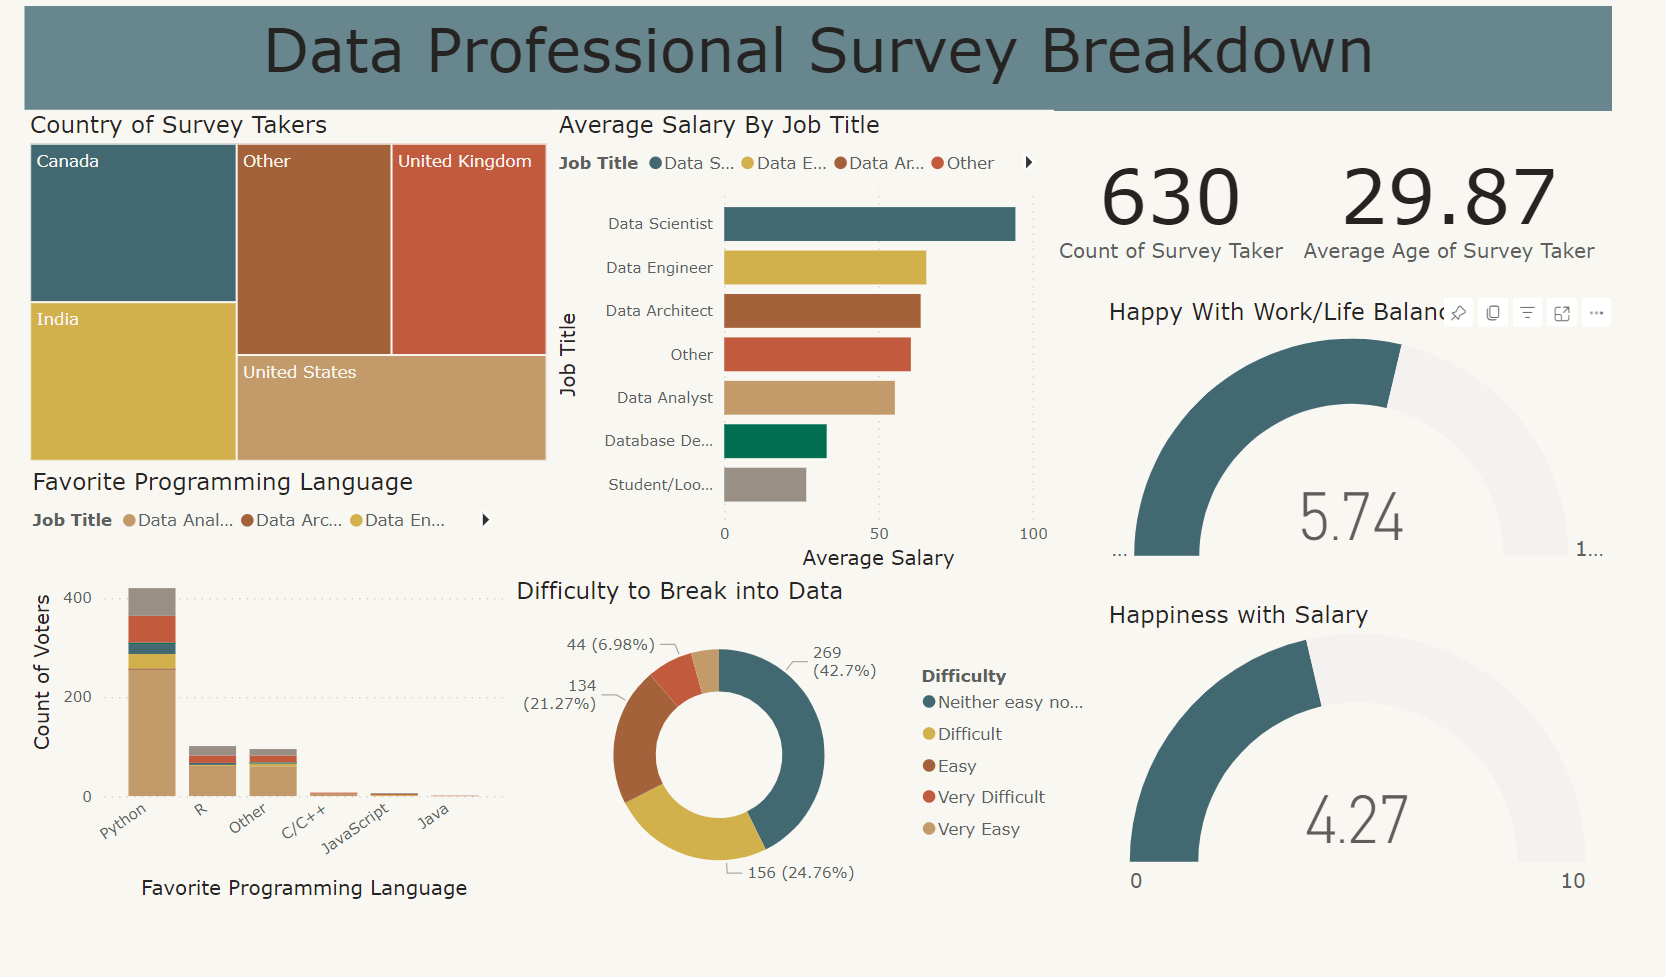

This screenshot's page, from the dashboard's own definition file:
{"tool":"powerbi","page":{"name":"Page 1","canvas":[1280,720],"ordinal":0},"visuals":[{"type":"textbox","box":[9.6,0,1270.7,83.7],"z":0},{"type":"card","fields":{"Values":["Avg(Data Professional Survey.Q10 - Current Age)"]},"box":[1017.7,83.5,262.7,149.6],"z":1000},{"type":"card","fields":{"Values":["CountNonNull(Data Professional Survey.Unique ID)"]},"box":[821.1,83.5,210.5,149.6],"z":2000},{"type":"barChart","title":"Average Salary By Job Title","fields":{"Y":["Avg(Data Professional Survey.Average Salary)"],"Category":["Data Professional Survey.Q1 - Which Title Best Fits your Current Role?.1"],"Series":["Data Professional Survey.Q1 - Which Title Best Fits your Current Role?.1"]},"box":[432.1,83.5,401.2,372.9],"z":3000},{"type":"columnChart","title":"Favorite Programming Language","fields":{"Category":["Data Professional Survey.Q5 - Favorite Programming Language.1"],"Y":["CountNonNull(Data Professional Survey.Unique ID)"],"Series":["Data Professional Survey.Q1 - Which Title Best Fits your Current Role?.1"]},"box":[10.8,368.9,387.7,351.4],"z":4000},{"type":"treemap","title":"Country of Survey Takers","fields":{"Group":["Data Professional Survey.Q11 - Which Country do you live in?.1"],"Values":["Count(Data Professional Survey.Q11 - Which Country do you live in?.1)"]},"box":[9.4,83.5,422.7,285.4],"z":5000},{"type":"gauge","title":"Happy With Work/Life Balance","fields":{"Y":["Avg(Data Professional Survey.Q6 - How Happy are you in your Current Position with the following? (Work/Life Balance))"],"MinValue":["Min(Data Professional Survey.Q6 - How Happy are you in your Current Position with the following? (Work/Life Balance))1"],"MaxValue":["Max(Data Professional Survey.Q6 - How Happy are you in your Current Position with the following? (Work/Life Balance))2"]},"box":[872.4,232.9,407.9,223.5],"z":6000},{"type":"gauge","title":"Happiness with Salary","fields":{"Y":["Avg(Data Professional Survey.Q6 - How Happy are you in your Current Position with the following? (Salary))"],"MinValue":["Min(Data Professional Survey.Q6 - How Happy are you in your Current Position with the following? (Salary))"],"MaxValue":["Max(Data Professional Survey.Q6 - How Happy are you in your Current Position with the following? (Salary))1"]},"box":[872.4,475.2,407.9,243.7],"z":7000},{"type":"donutChart","title":"Difficulty to Break into Data","fields":{"Category":["Data Professional Survey.Q7 - How difficult was it for you to break into Data?"],"Y":["CountNonNull(Data Professional Survey.Q7 - How difficult was it for you to break into Data?)"]},"box":[398.5,456.4,473.9,263.9],"z":8000}]}

Visuals, with their boxes in screenshot pixels (x1, y1, x2, y2):
textbox: Rect(30, 0, 1665, 107)
card - Avg(Data Professional Survey.Q10 - Current Age): Rect(1372, 107, 1665, 306)
card - CountNonNull(Data Professional Survey.Unique ID): Rect(1110, 107, 1390, 306)
"Average Salary By Job Title" barChart: Rect(592, 107, 1126, 603)
"Favorite Programming Language" columnChart: Rect(32, 487, 548, 954)
"Country of Survey Takers" treemap: Rect(30, 107, 592, 487)
"Happy With Work/Life Balance" gauge: Rect(1178, 306, 1665, 603)
"Happiness with Salary" gauge: Rect(1178, 628, 1665, 952)
"Difficulty to Break into Data" donutChart: Rect(548, 603, 1178, 954)
